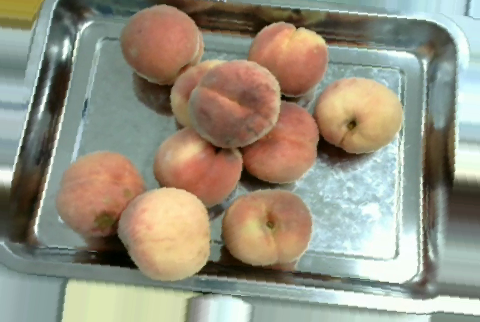Peach: (182, 57, 282, 152), (118, 186, 210, 282), (55, 150, 145, 241), (314, 74, 404, 154), (153, 127, 242, 207), (118, 3, 205, 84), (221, 190, 312, 265), (241, 102, 321, 182), (248, 21, 329, 94)
